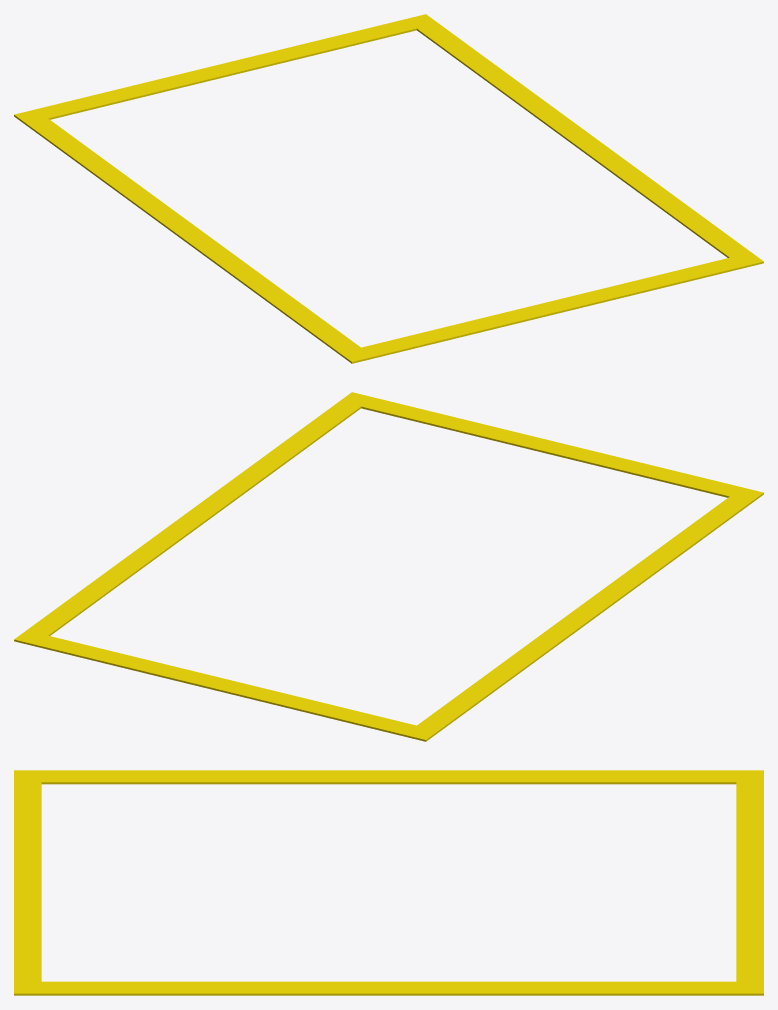
The model's file is PalletYardSlotMarking.glb.
The picture shows the model from 3 angles, top to bottom: view 1: azimuth 30°, elevation 25°; view 2: azimuth 150°, elevation 25°; view 3: azimuth 270°, elevation 25°; orthographic projection. The views are drawn at different scales.
Visible parts, largest first — view 1: W, E, N, S; view 2: W, E, S, N; view 3: E, W, N, S.
Part boxes in pixels (x1,y1,x2,y2): W: (26,118,360,353); E: (416,23,750,257); N: (339,252,763,363); S: (14,14,437,125); W: (417,496,751,731); E: (27,401,361,635); S: (14,630,438,741); N: (340,392,763,503); E: (41,981,736,995); W: (41,770,736,784); N: (14,770,41,995); S: (736,770,763,995).
Size of the model in its own units: 0.95 by 0.004 by 1.35.
